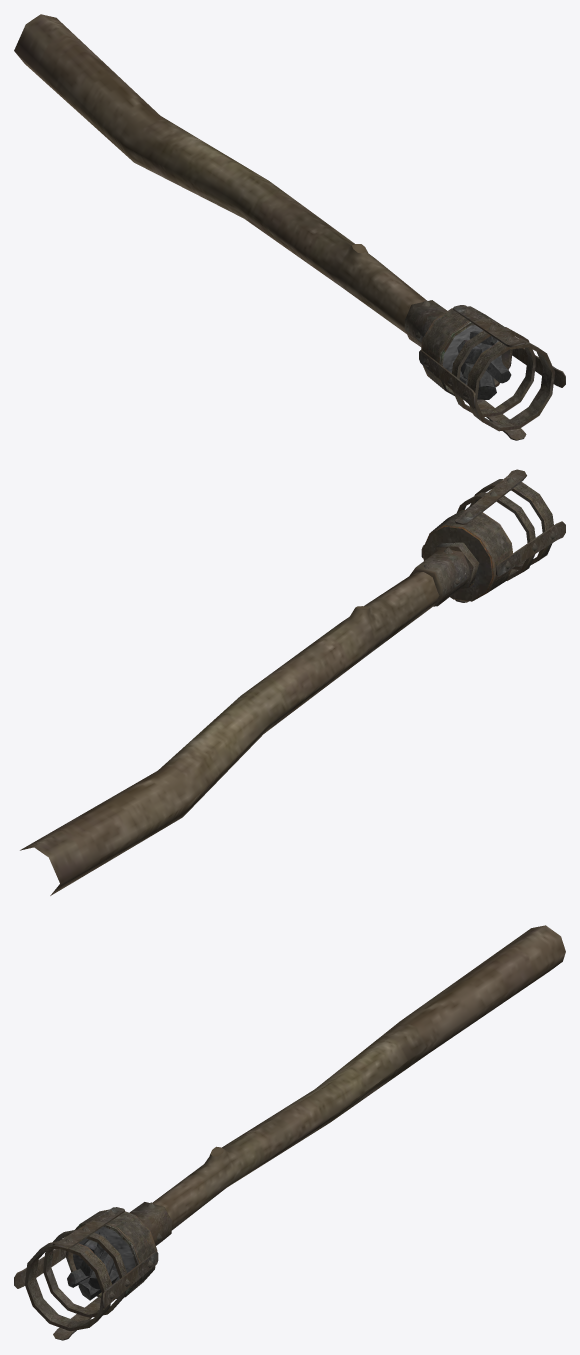
Rendered from GEN_PRO_Torch_Wood_02A_LOD0-transformed.glb.
3 renders of one model, top to bottom at view 1: azimuth 30°, elevation 25°; view 2: azimuth 150°, elevation 25°; view 3: azimuth 330°, elevation 25°, orthographic.
Visible parts, largest first — view 1: GEN_PRO_Torch_Wood_02A_LOD0; view 2: GEN_PRO_Torch_Wood_02A_LOD0; view 3: GEN_PRO_Torch_Wood_02A_LOD0.
Boxes of the visible parts, x1,y1,x2,y2 form: GEN_PRO_Torch_Wood_02A_LOD0: [14, 14, 565, 440]; GEN_PRO_Torch_Wood_02A_LOD0: [20, 469, 565, 895]; GEN_PRO_Torch_Wood_02A_LOD0: [14, 925, 565, 1340].
Bounding box in the file's own units: 0.00169 × 0.00169 × 0.0152.
Materials: 3 (3 with a texture image).
